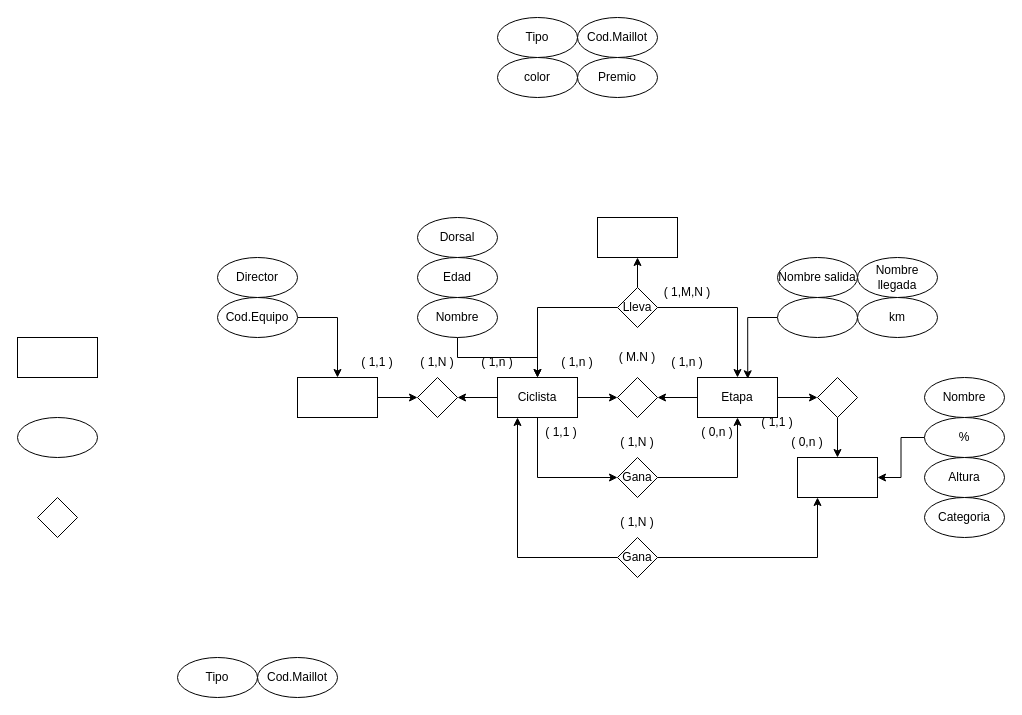
Some shapes in this 1022 by 715 pixel diagram are drawn without their labels. Here are the shapes that lost their labels. From the top down, the centre of each, then its label:
the point at 637,237: Maillot
the point at 817,317: Num.etapas
the point at 337,397: Equipos
the point at 437,397: Pertenece
the point at 637,397: Participa
the point at 837,397: Tener
the point at 837,477: Puerto
